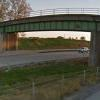Bridge: (2, 5, 95, 44)
